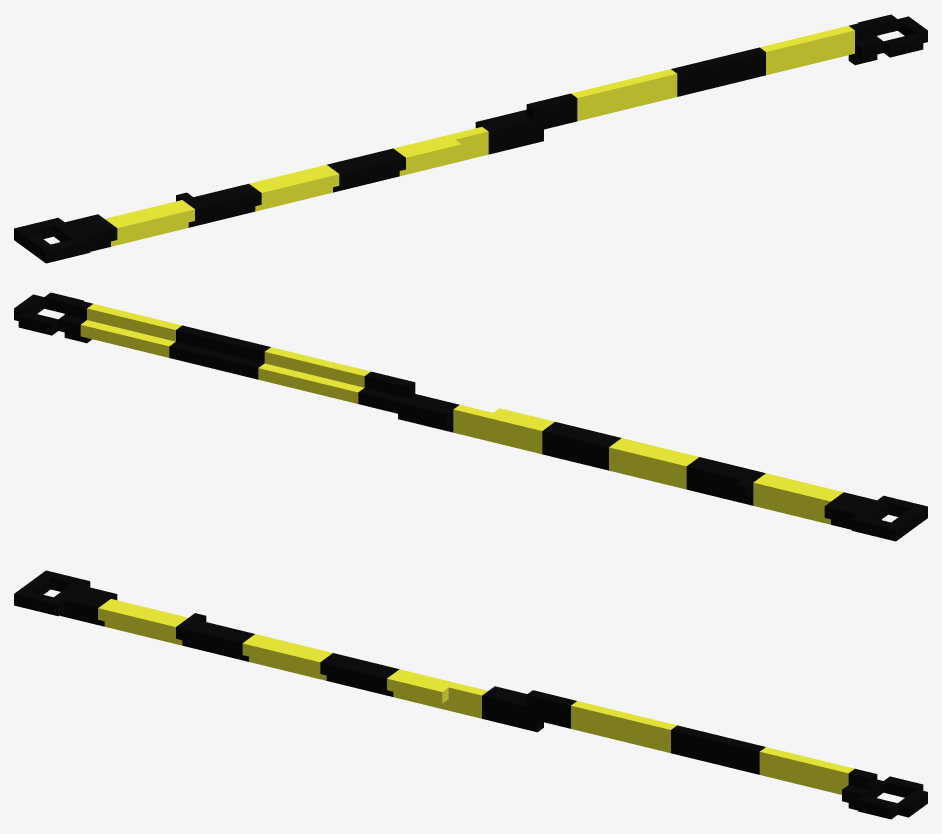
File: ko-nwotunaguyatu.obj
3 views of the same model, one above another, from view 1: azimuth 30°, elevation 25°; view 2: azimuth 150°, elevation 25°; view 3: azimuth 330°, elevation 25° (orthographic).
Bounding box in the file's own units: 8 × 0.3 × 0.5.
Materials: 1 (1 with a texture image).
